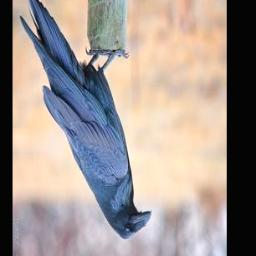Crow: (20, 0, 154, 243)
